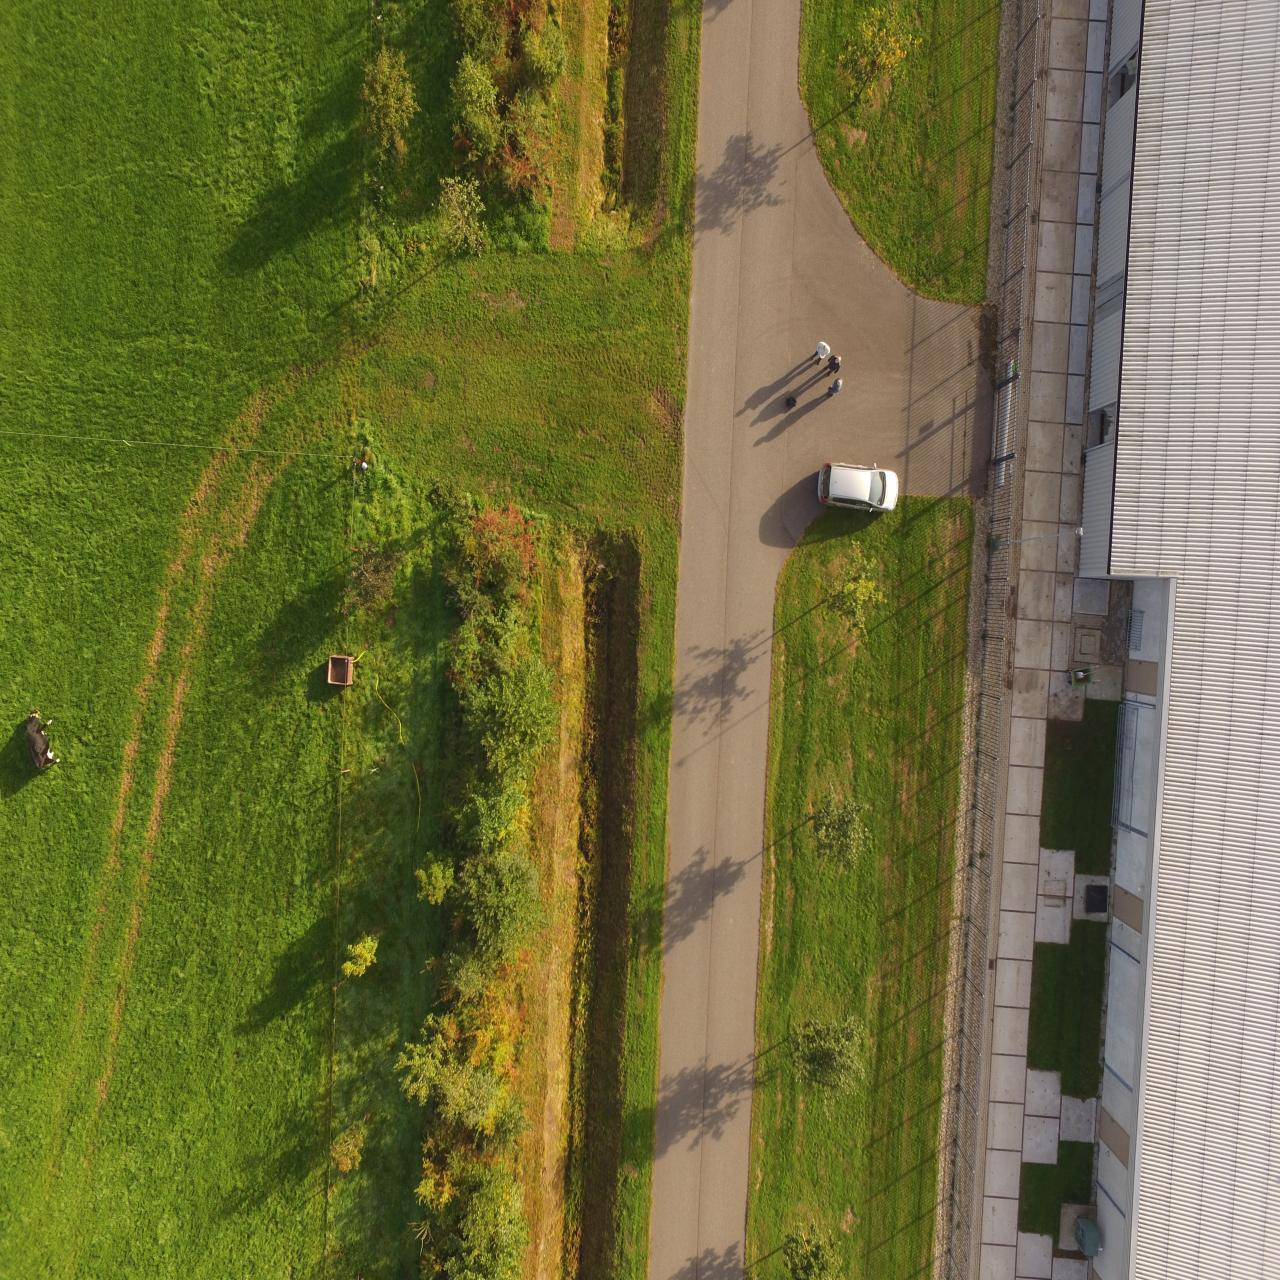cow: (25, 707, 61, 769)
